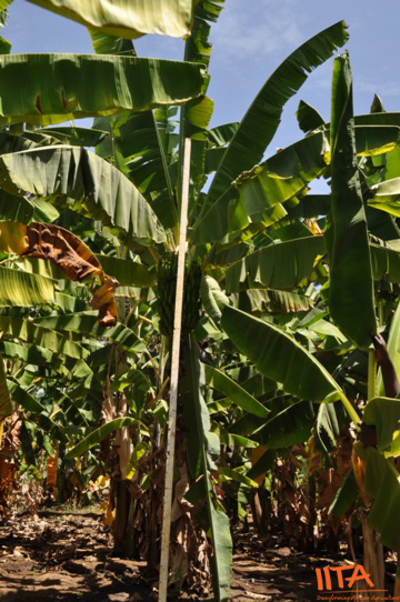bananaHand: (157, 258, 205, 340)
